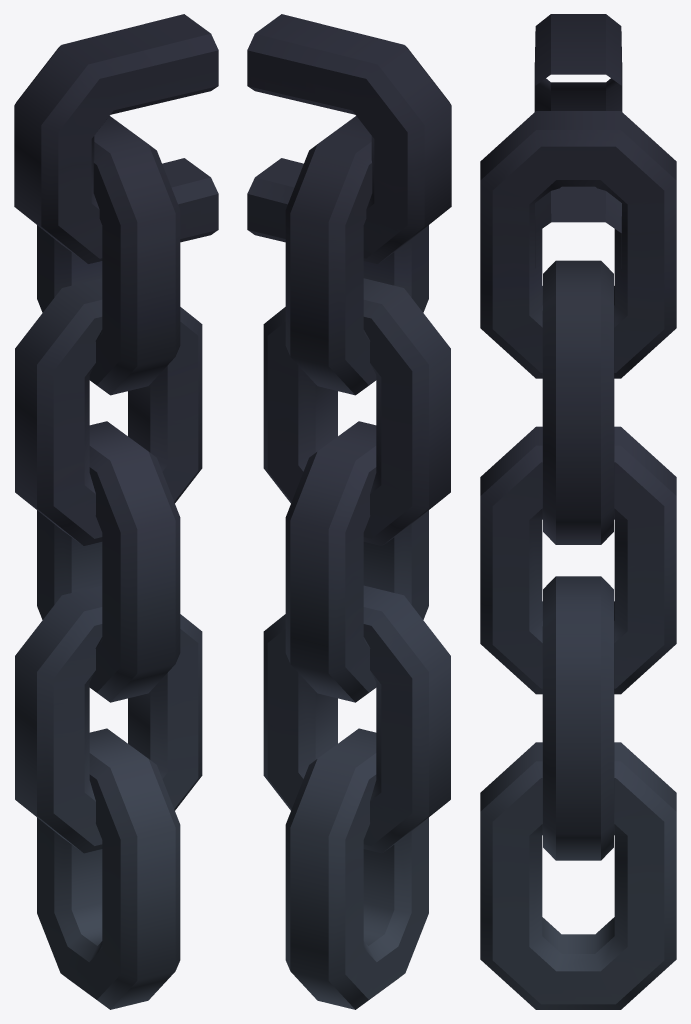
File: Chain_2_3.glb
3 renders of one model, left to right at view 1: azimuth 30°, elevation 25°; view 2: azimuth 150°, elevation 25°; view 3: azimuth 270°, elevation 25°, orthographic. The views are drawn at different scales.
Parts seen in each view (by area): view 1: Chain_2_3; view 2: Chain_2_3; view 3: Chain_2_3.
Boxes of the visible parts, x1,y1,x2,y2 form: Chain_2_3: (14, 14, 218, 1009); Chain_2_3: (247, 14, 451, 1009); Chain_2_3: (480, 14, 676, 1009).
Size of the model in its own units: 0.1177 by 0.6187 by 0.1134.
Materials: 1 (1 with a texture image).
